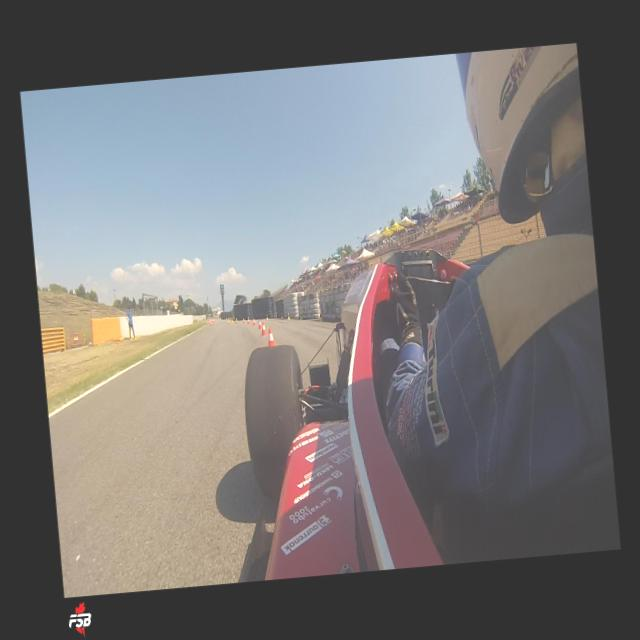orange_cone: (266, 326, 274, 347), (258, 321, 268, 337), (256, 318, 262, 330), (252, 317, 255, 326), (247, 318, 250, 325), (242, 316, 244, 324)
yellow_cone: (318, 312, 322, 321), (286, 312, 290, 320), (265, 312, 268, 320), (280, 312, 282, 318)
